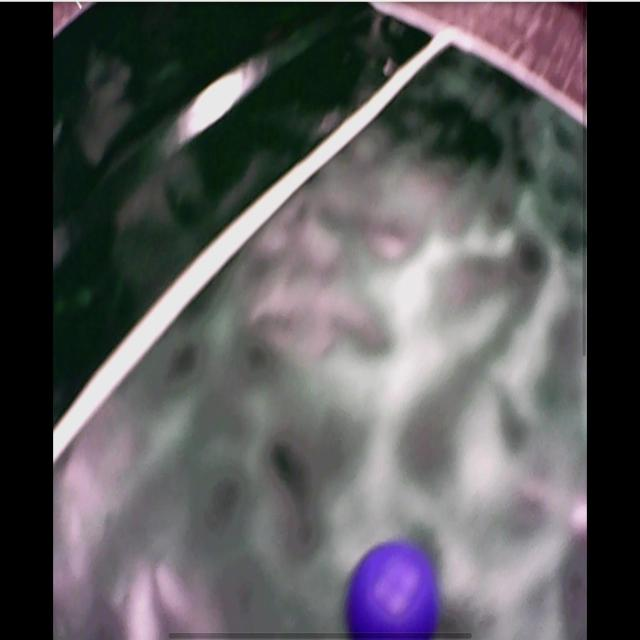ball: (347, 541, 435, 640)
